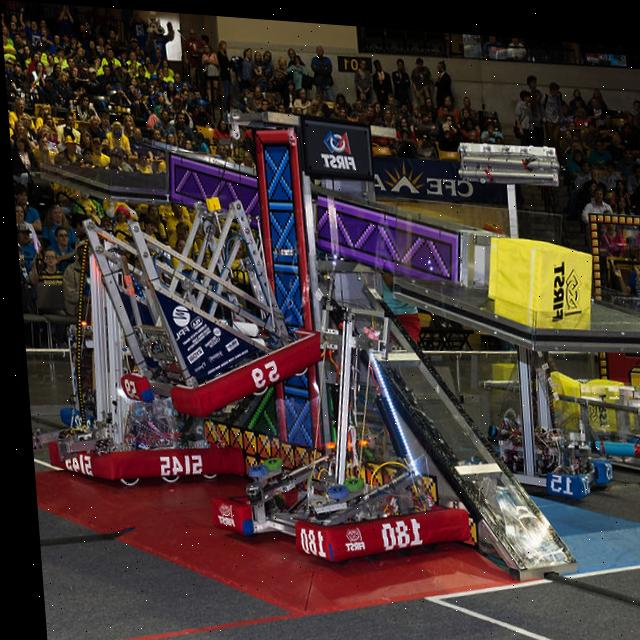robot: (192, 277, 467, 576), (29, 240, 240, 498), (101, 185, 321, 419), (458, 333, 611, 494)
